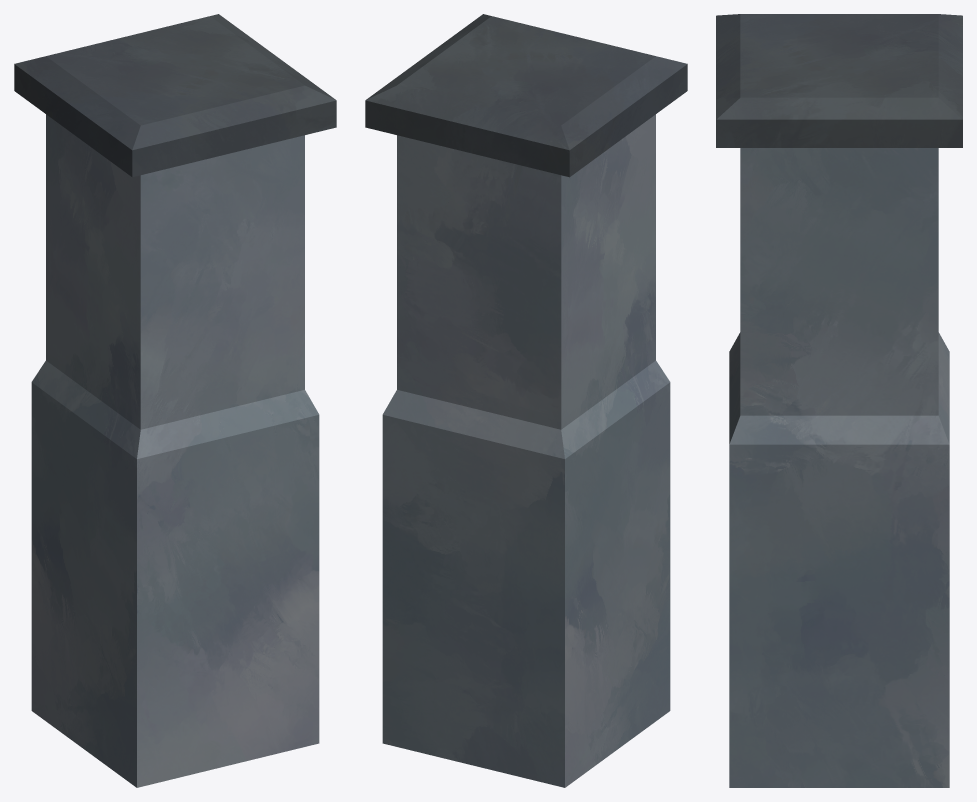
The model's file is Fence column.fbx.
3 renders of one model, left to right at view 1: azimuth 30°, elevation 25°; view 2: azimuth 150°, elevation 25°; view 3: azimuth 270°, elevation 25°, orthographic. The views are drawn at different scales.
Parts seen in each view (by area): view 1: Fence column; view 2: Fence column; view 3: Fence column.
Part boxes in pixels (bbox=[...]): Fence column: bbox=[14, 14, 336, 787]; Fence column: bbox=[365, 14, 687, 787]; Fence column: bbox=[716, 14, 962, 787].
Size of the model in its own units: 49.8 by 153 by 49.8.
